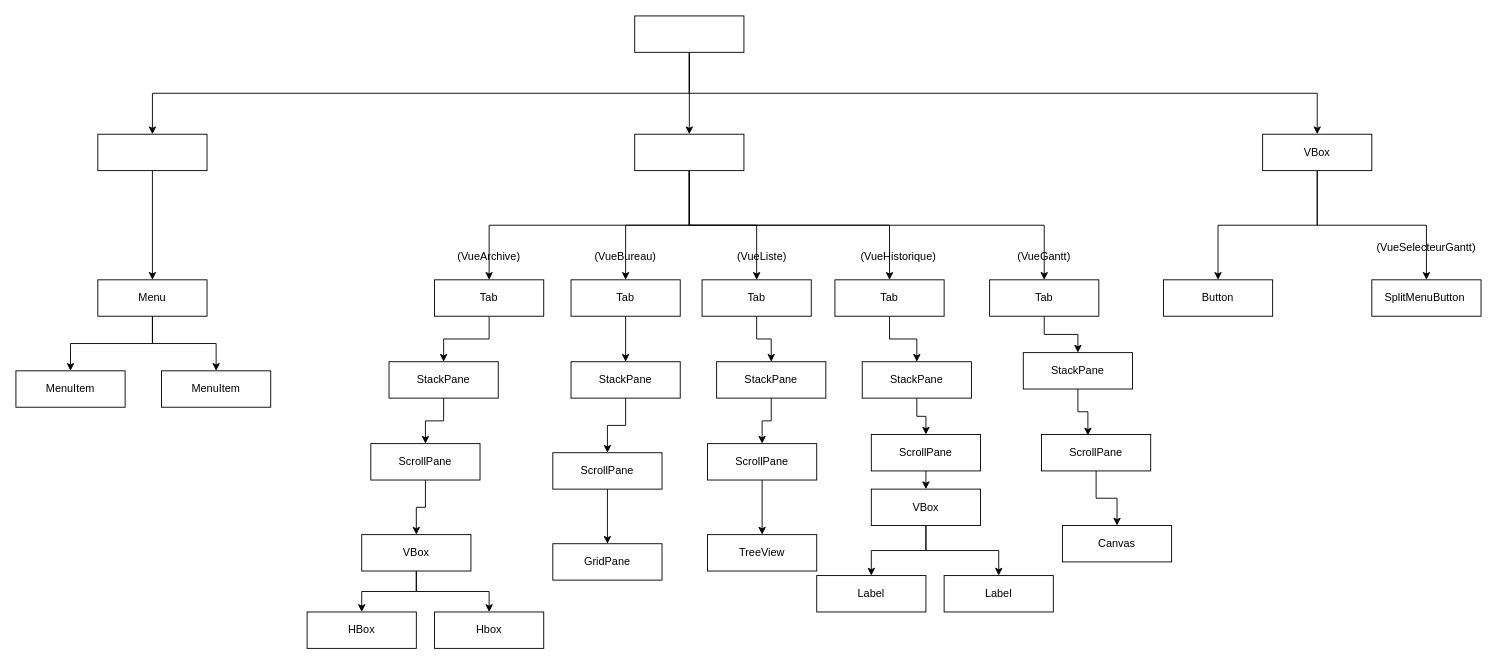
This 1497x664 diagram has some shape labels left out. The shapes that lost their labels are listed below. From the top down, each one's box as (x1, y1, x2, y2) in pixels, then its label:
(634, 15, 744, 52): BorderPane
(97, 133, 207, 171): MenuBar
(634, 133, 744, 171): TabPane
